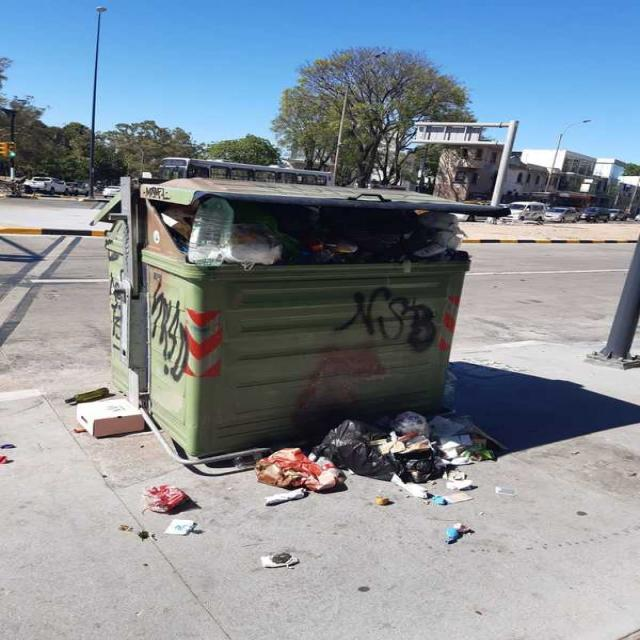garbage: (242, 408, 512, 513), (132, 194, 468, 274), (101, 475, 226, 548), (48, 376, 168, 448), (248, 542, 312, 584), (434, 516, 482, 552), (0, 438, 15, 471)
